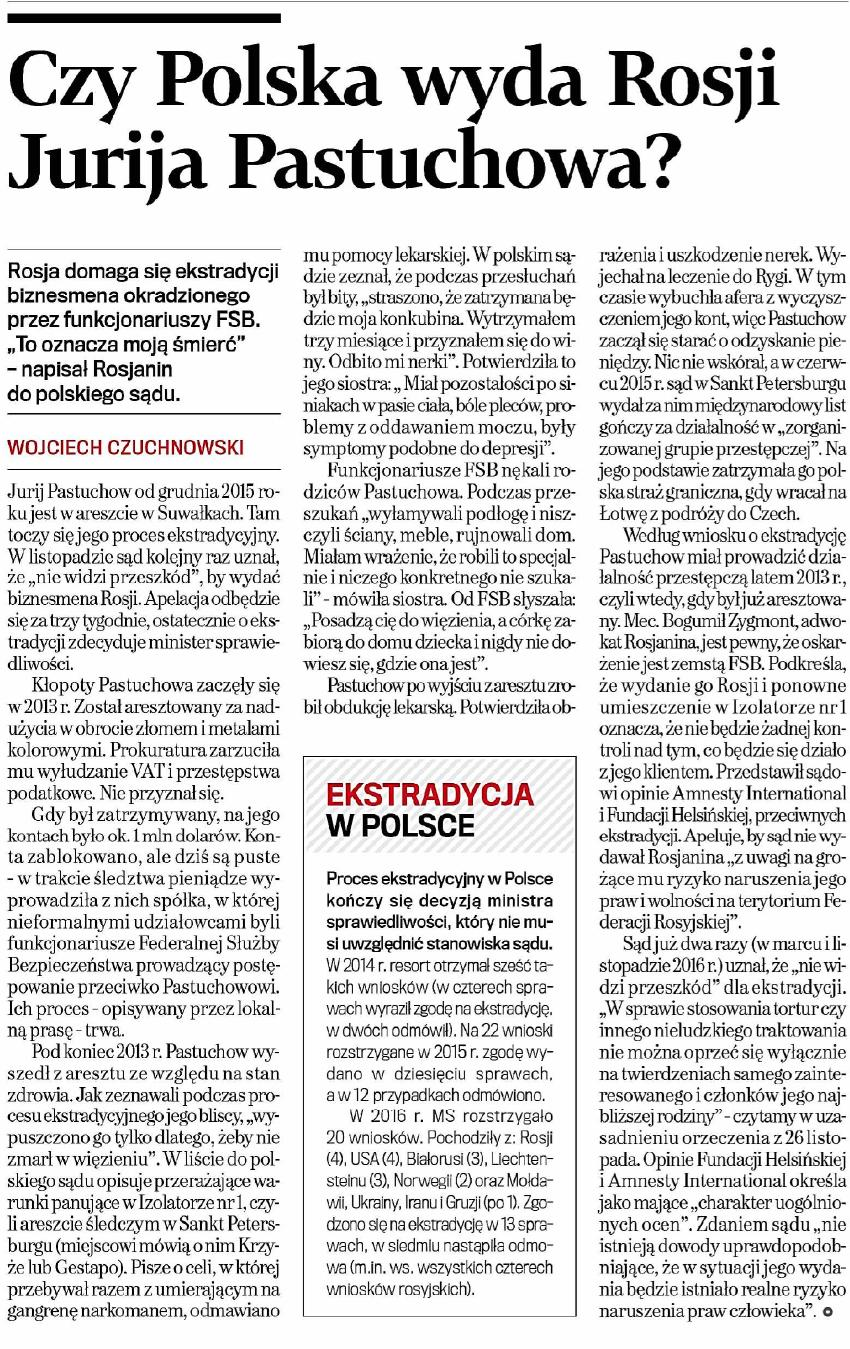author: (3, 430, 259, 463)
body: (596, 241, 850, 1326), (0, 476, 293, 1333), (299, 749, 589, 1323), (294, 243, 587, 726)
lead: (1, 250, 284, 407)
title: (6, 31, 796, 201)
